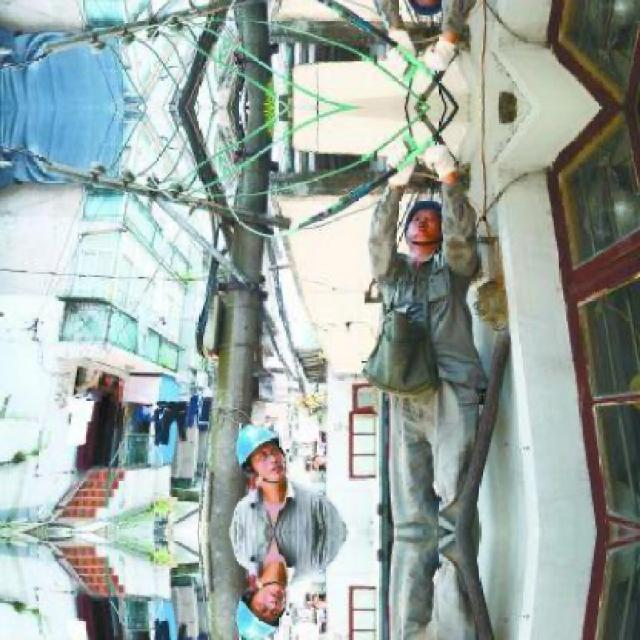helmet: (235, 417, 291, 494), (234, 570, 291, 638), (406, 197, 446, 257), (405, 0, 446, 17)
